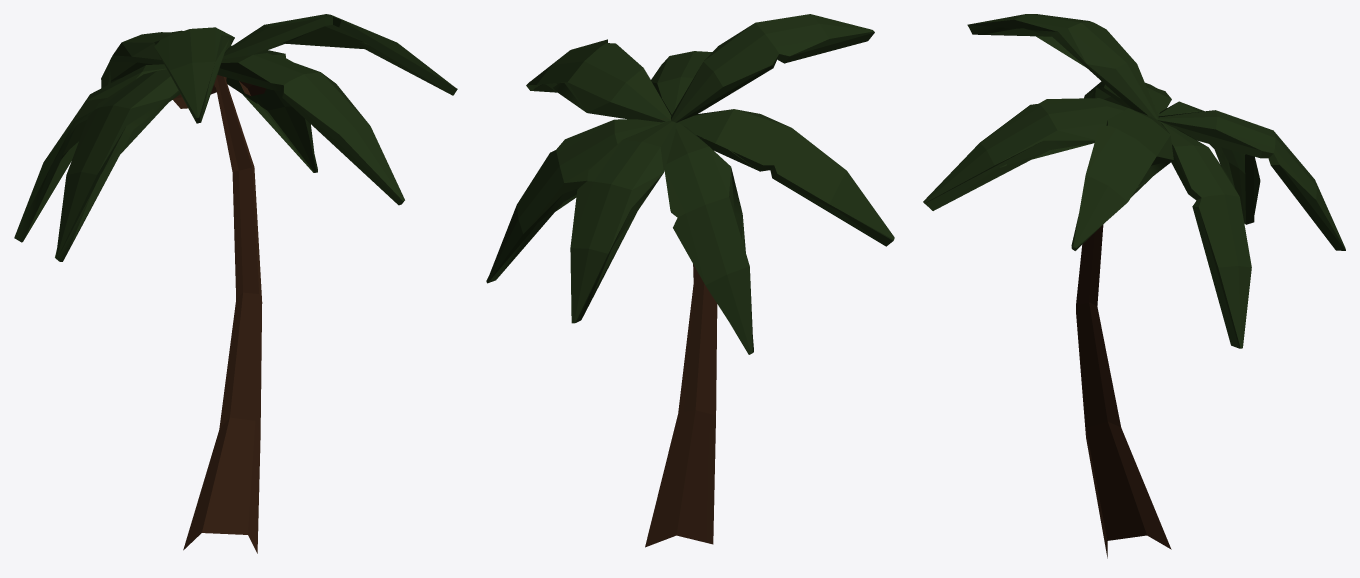
The model's file is palm_tree.FBX.
3 views of the same model, side by side, from view 1: azimuth 30°, elevation 25°; view 2: azimuth 150°, elevation 25°; view 3: azimuth 270°, elevation 25° (orthographic). The views are drawn at different scales.
Parts seen in each view (by area): view 1: palm_tree; view 2: palm_tree; view 3: palm_tree.
Boxes of the visible parts, x1,y1,x2,y2 form: palm_tree: (14, 14, 457, 553); palm_tree: (486, 14, 894, 547); palm_tree: (923, 14, 1345, 558).
Bounding box in the file's own units: 27.46 × 36.57 × 27.91.
